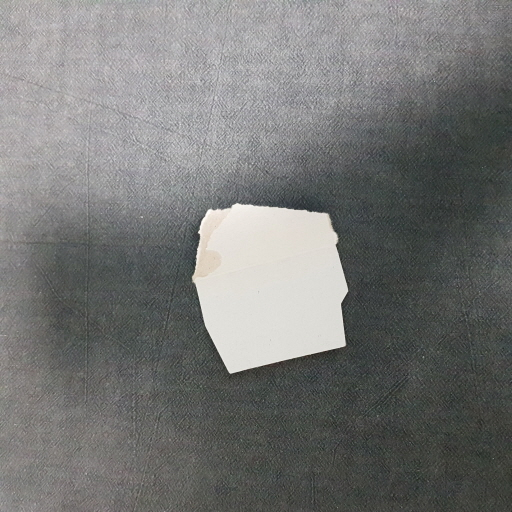Paper_2: (186, 200, 355, 381)
